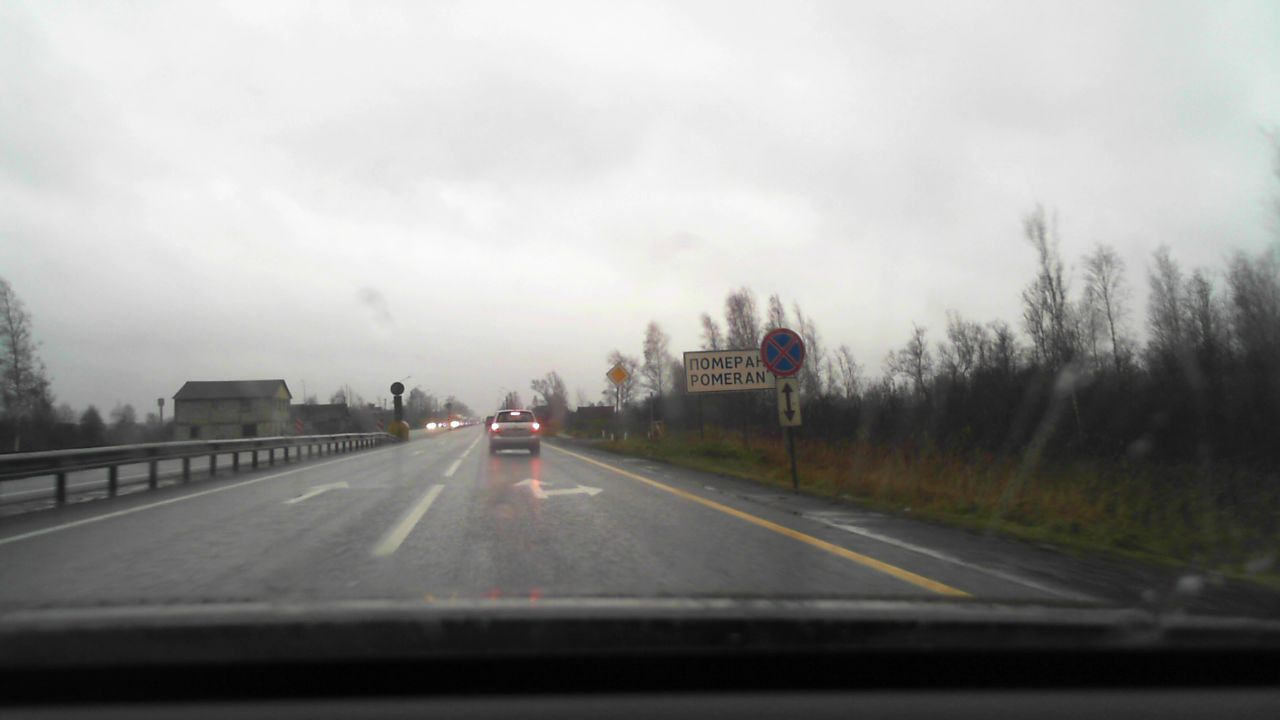No Parking: (760, 328, 805, 375)
